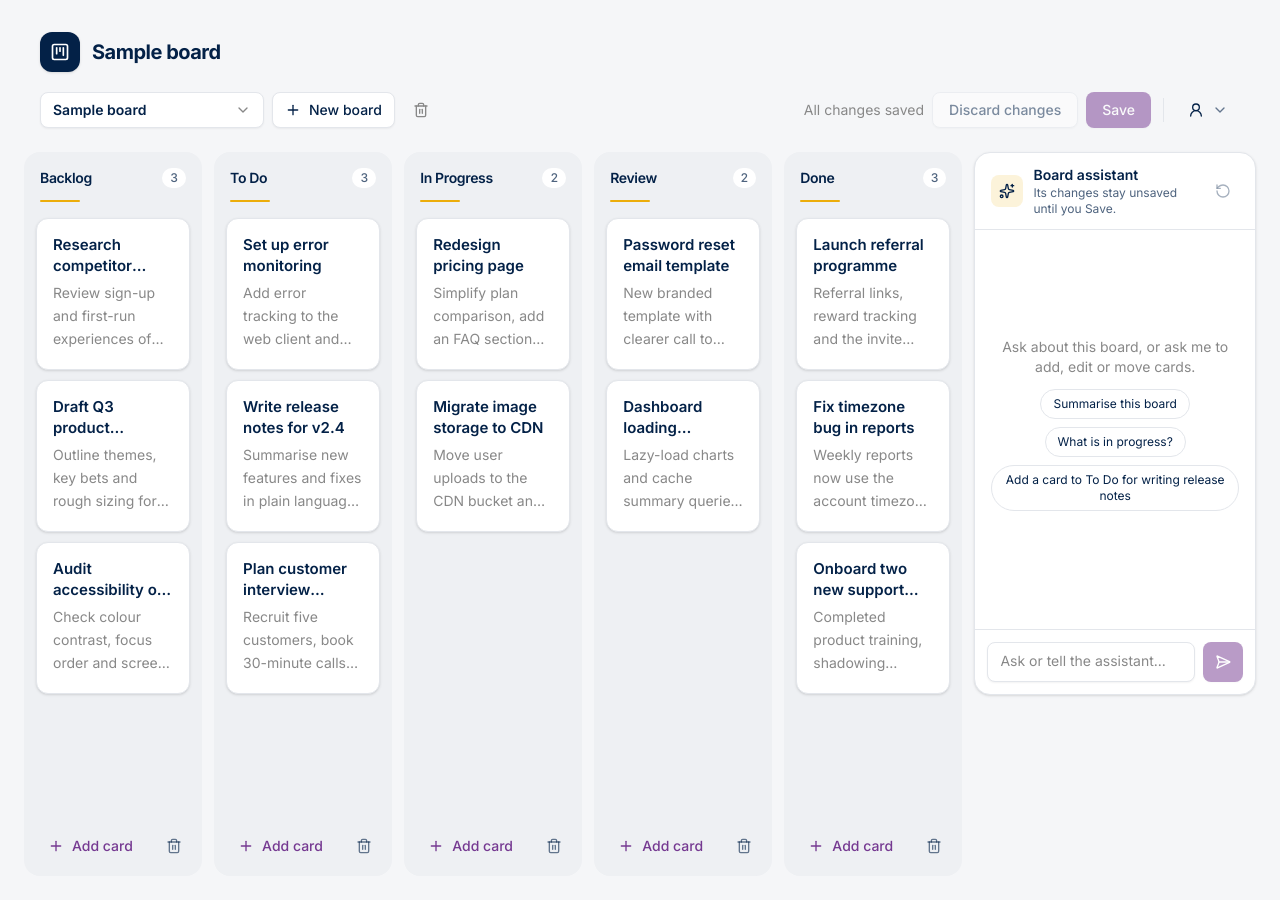
Test case: BoardApp › enables Save and Discard only when there are unsaved changes
Expected: the text "All changes saved" is shown, [804,100,924,120]
Expected: the button "Save" is disabled, [1086,92,1151,128]
Click the button with aria-label "Rename column: Done" at coordinates (853, 178), box [792,164,915,192]
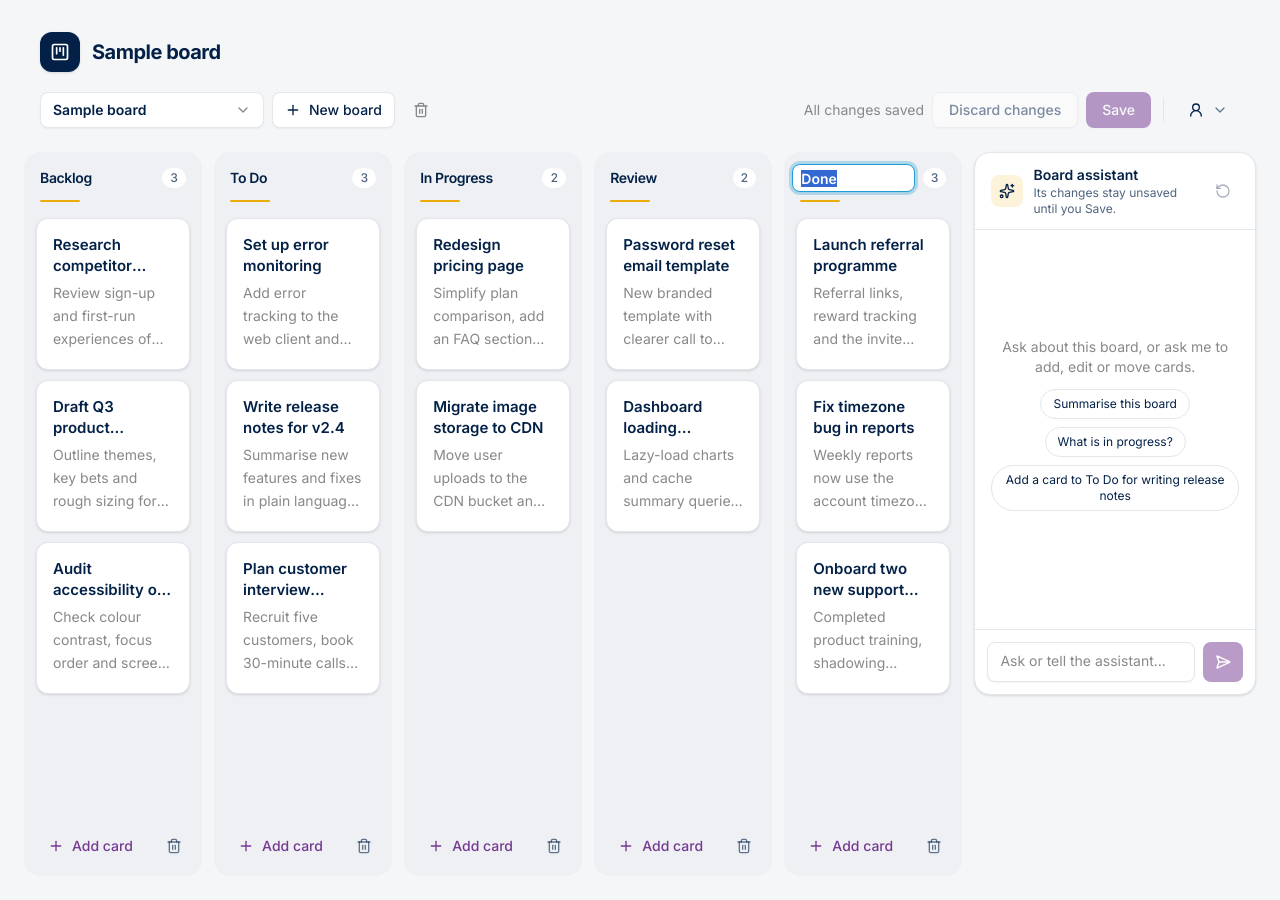
Type " now" into the field named "Column name" at coordinates (853, 178), box [792,164,915,192]
Then press Enter
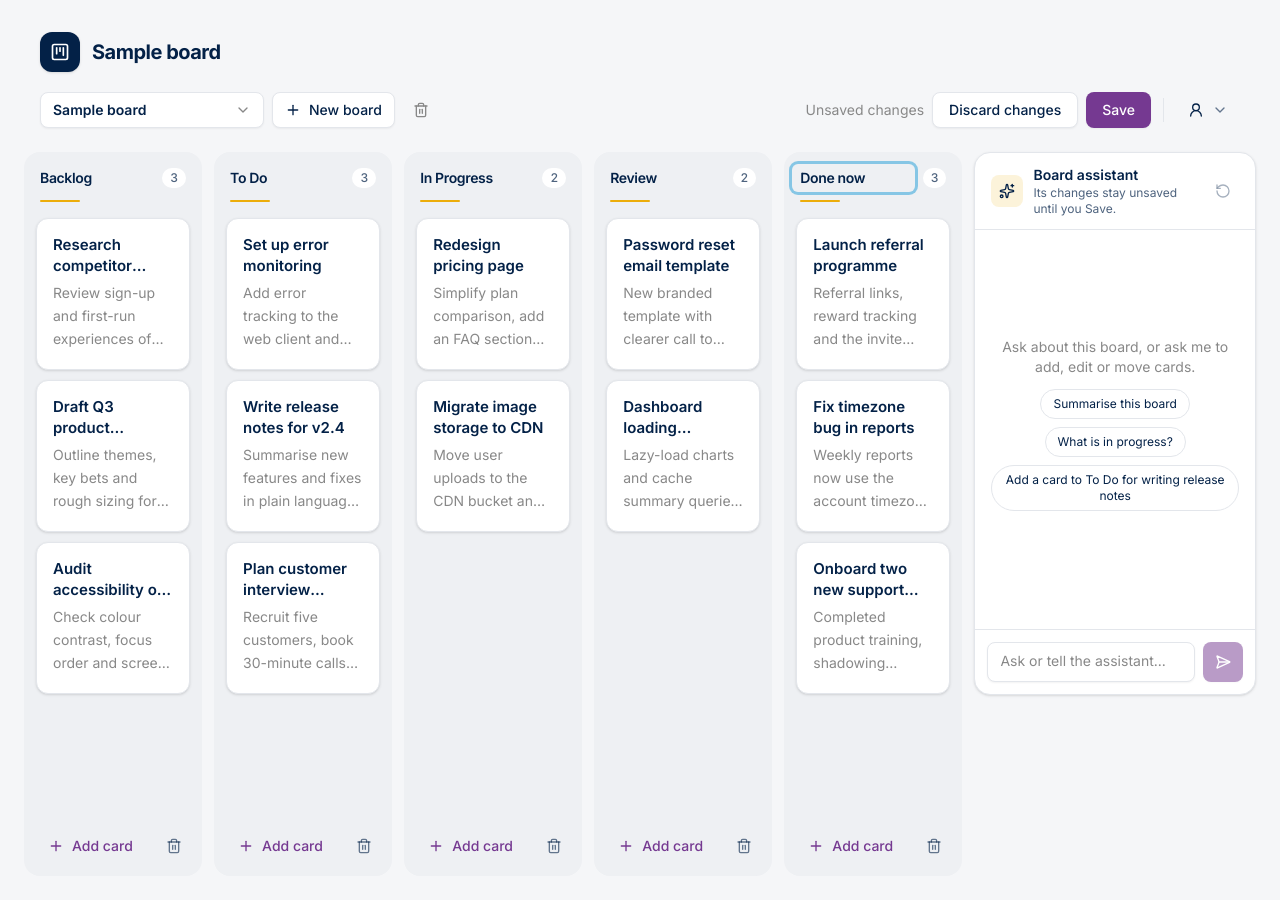
Expected: the text "Unsaved changes" is shown, [806,100,924,120]
Expected: the button "Save" is enabled
Click the button "Save" at coordinates (1119, 110), box [1086,92,1151,128]
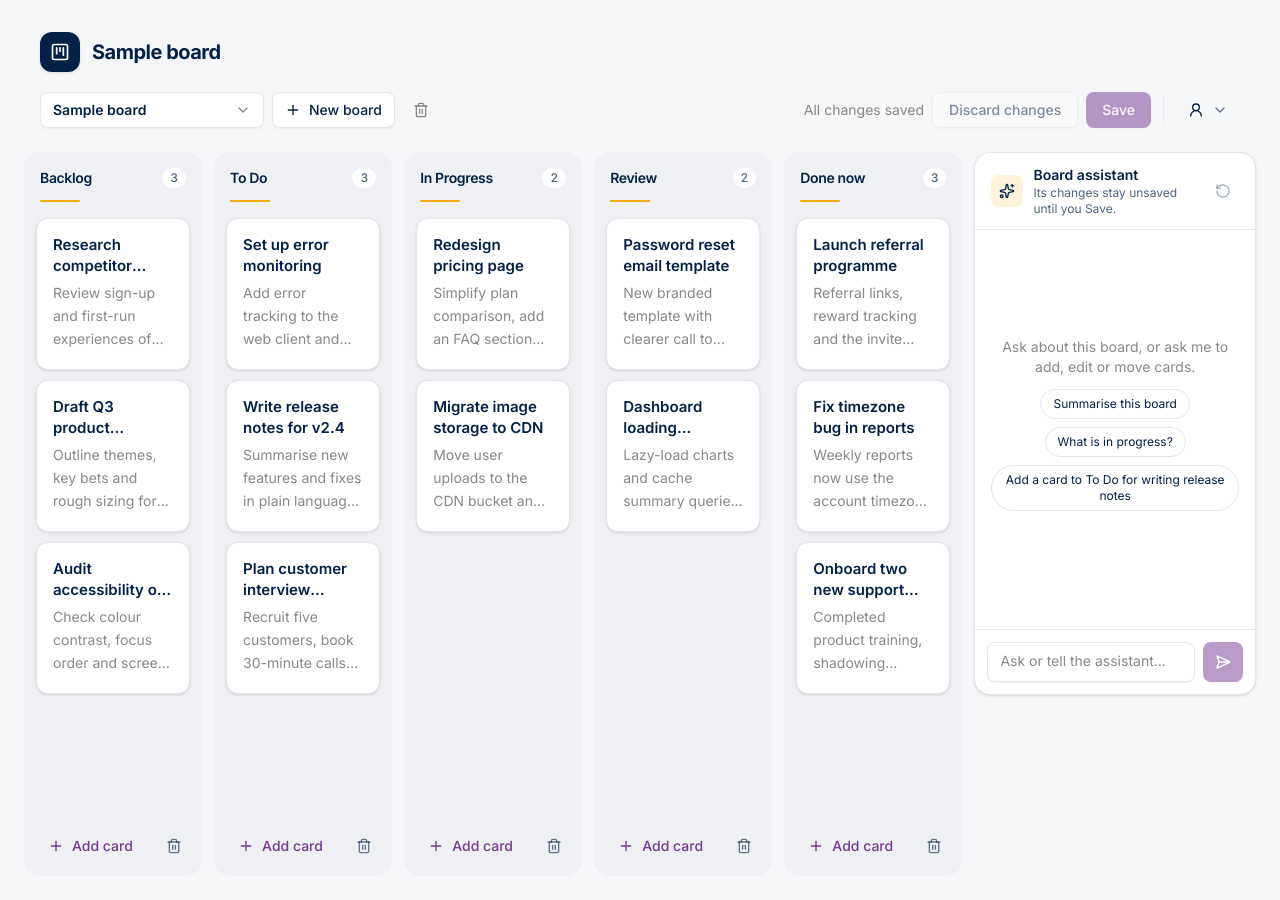
Expected: the button "Save" is disabled, [1086,92,1151,128]
